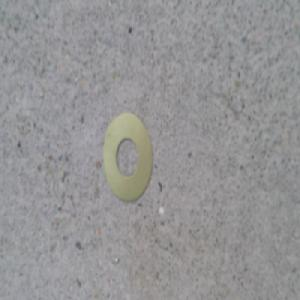Washer: (101, 108, 153, 200)
